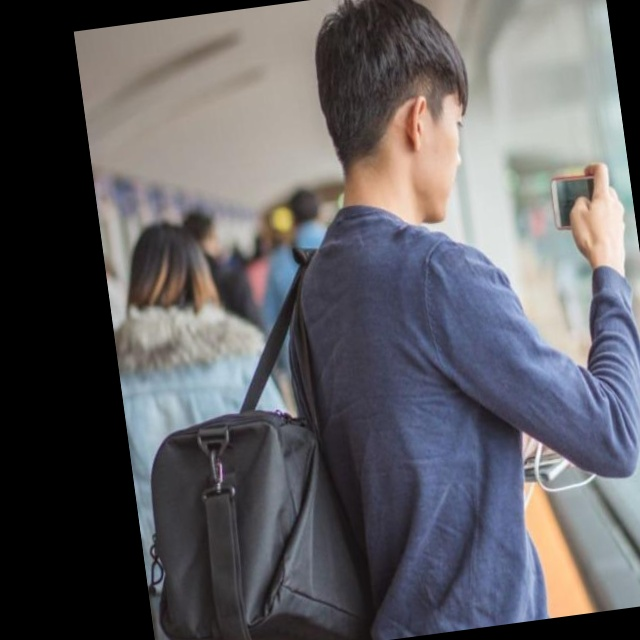Sin_Casco_Mascarrilla: (305, 0, 485, 233)
Sin_Chaleco: (281, 200, 562, 640)
